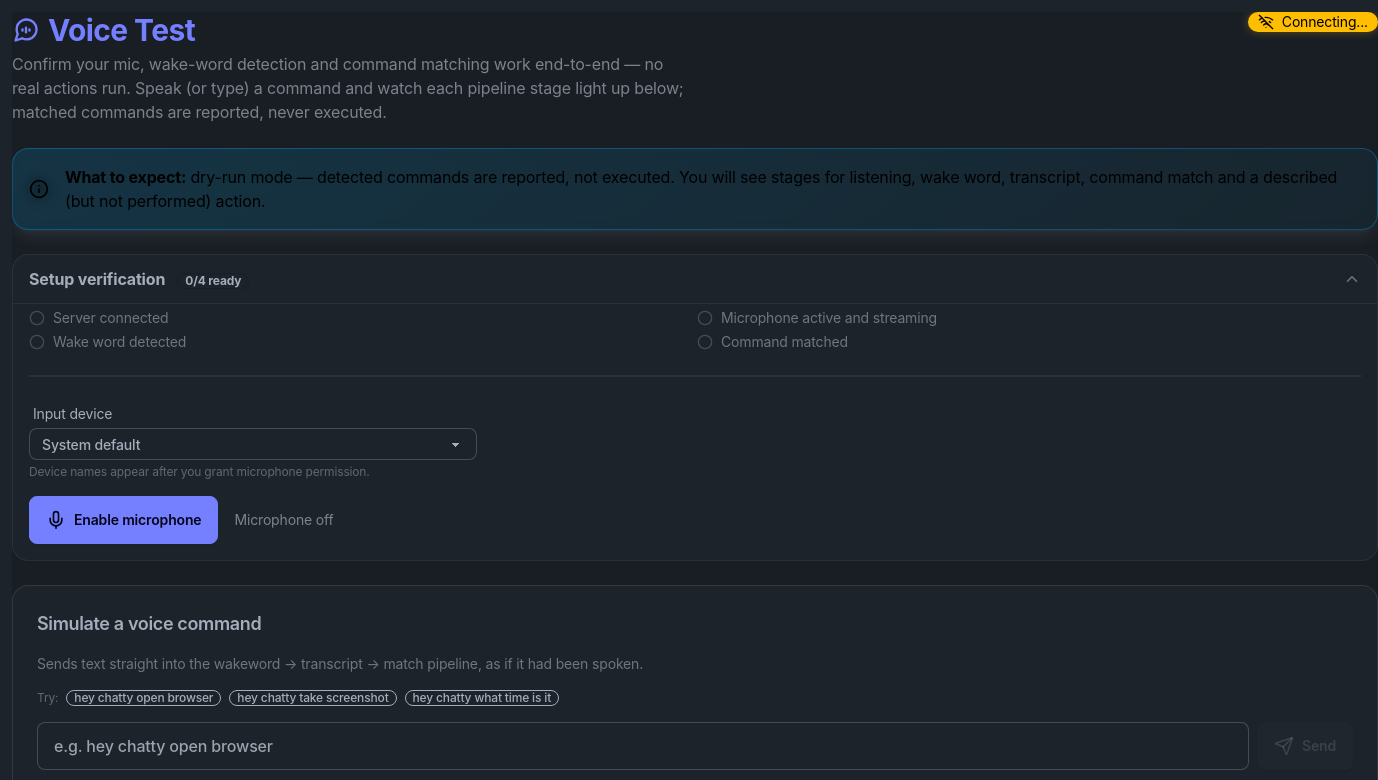
VoiceTestPage › microphone permission flow › shows the denied state when getUserMedia rejects
Click the button with test id "mic-toggle" at (124, 520), box [29, 496, 218, 544]
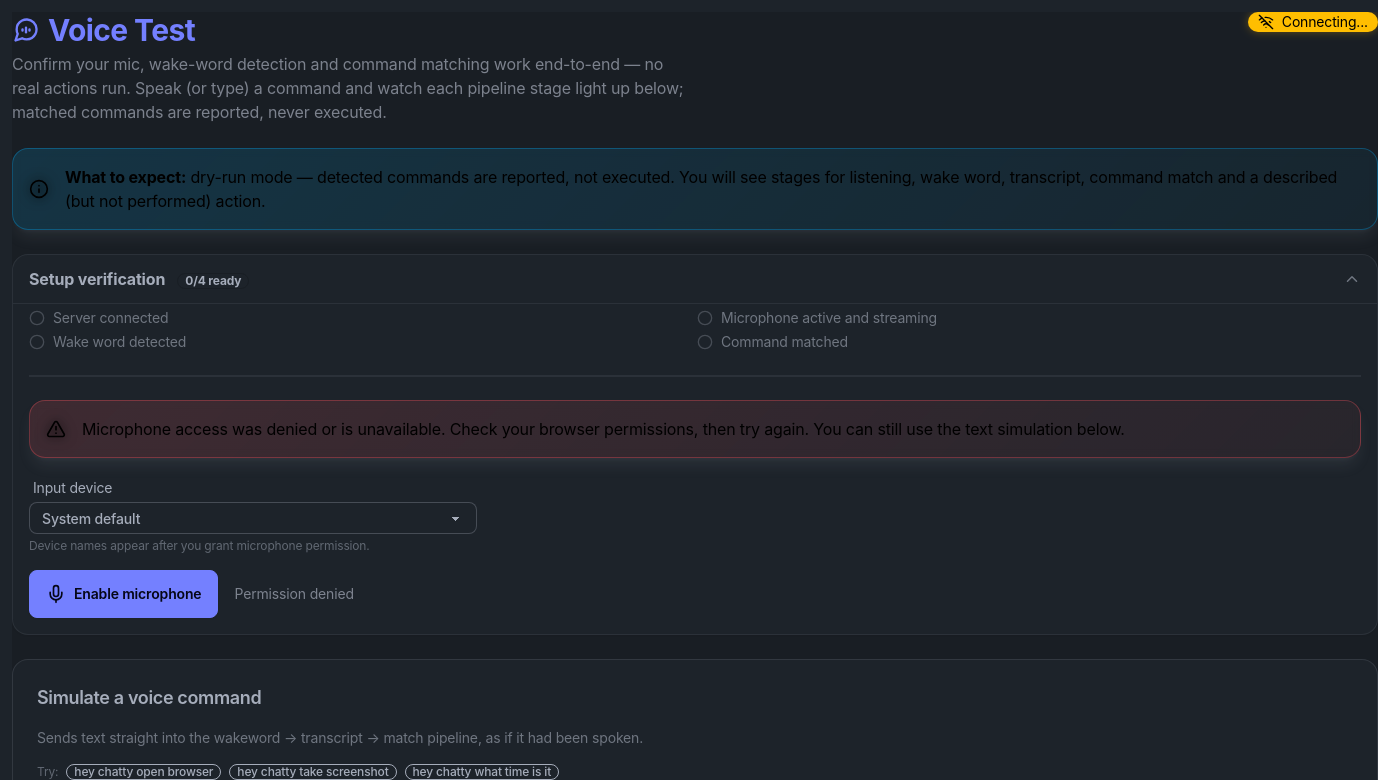
Expected: the button with test id "mic-toggle" is enabled, [29, 570, 218, 618]
Now the text with test id "mic-state" reads "Permission denied", box [234, 585, 354, 602]
Now the message with test id "mic-denied-alert" is shown, box [29, 400, 1361, 458]
